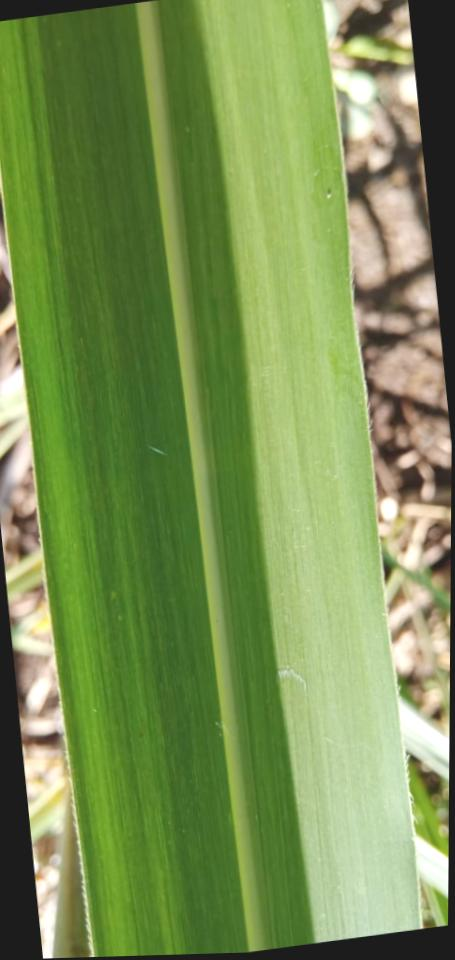Healthy: (0, 0, 418, 957)
